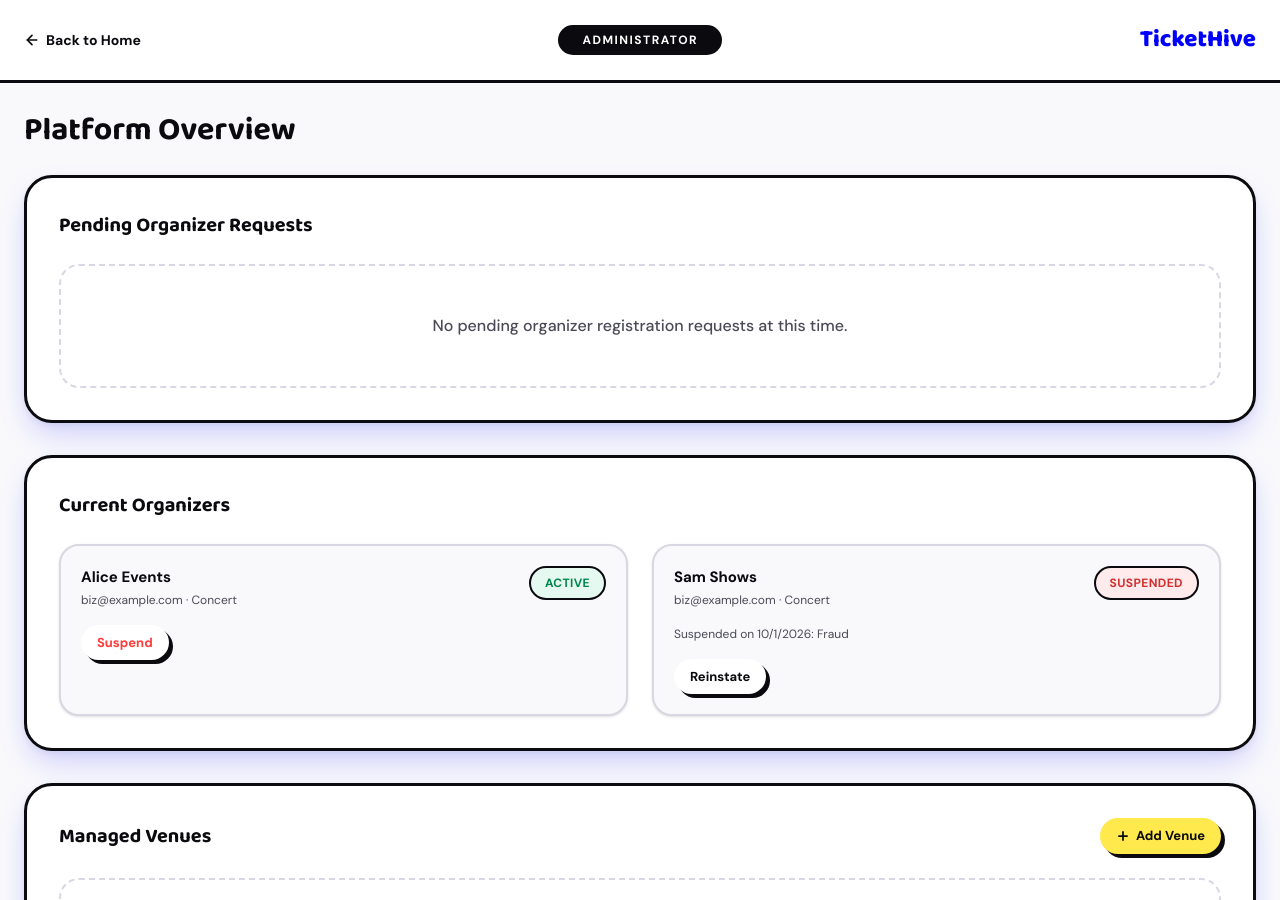
AdminDashboard organizer suspension › requires a reason before suspending, then suspends and refreshes the list
Click the button with aria-label "Suspend Alice Events": (125, 642) 81,624 -> 169,660
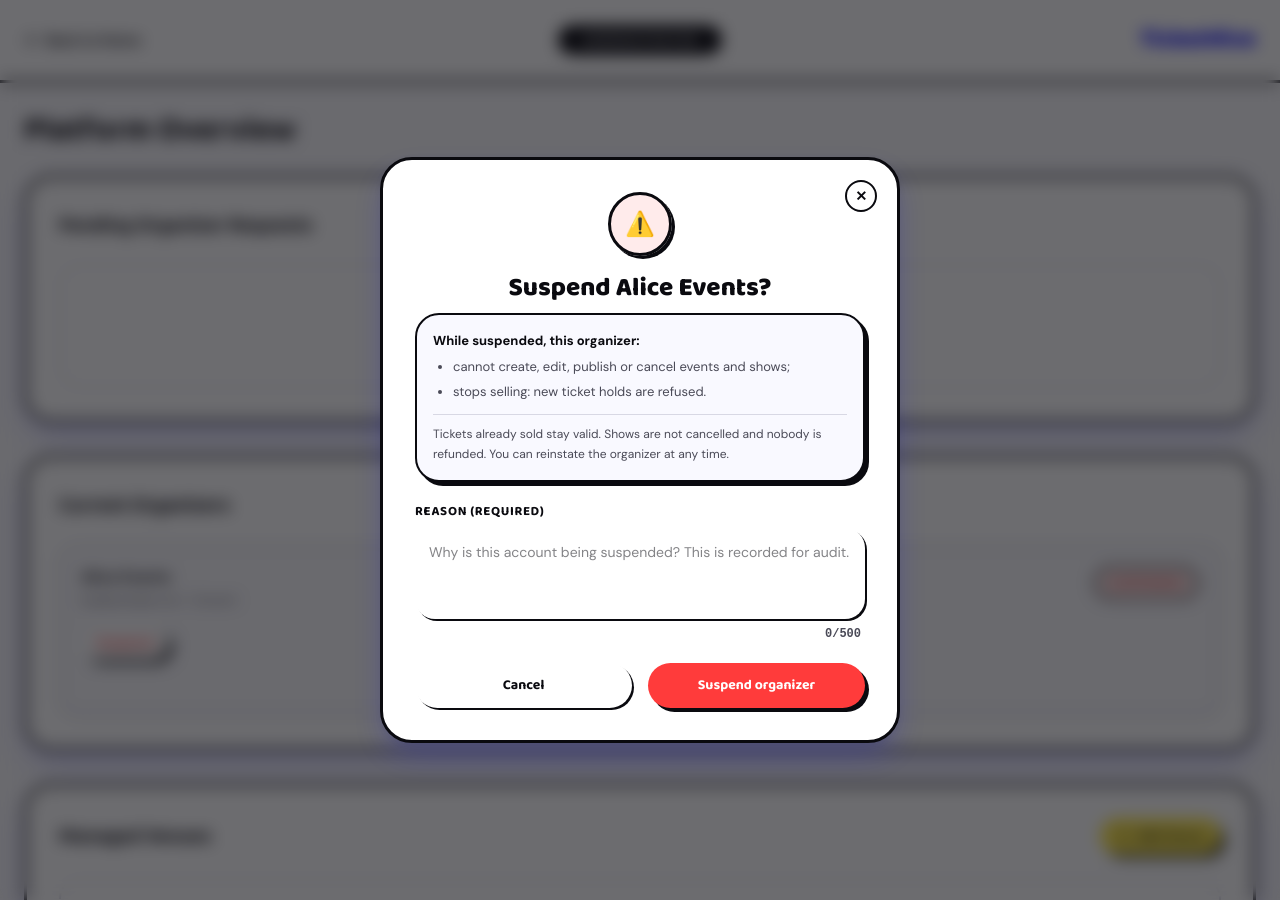
Click the button "Suspend organizer": (756, 685) 648,663 -> 865,708
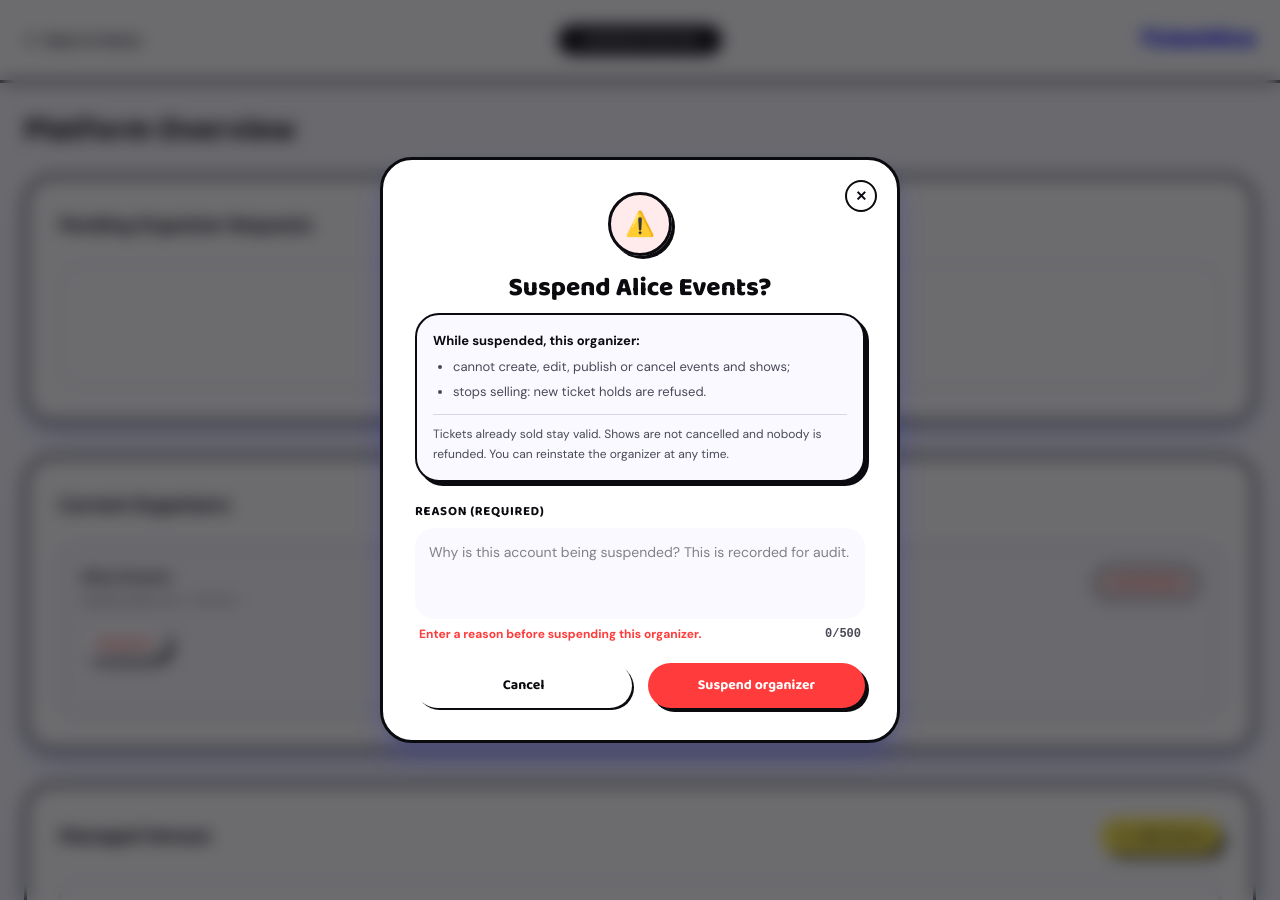
expect the text "Enter a reason before suspending this organizer." is shown: met, box 419,625 -> 702,643
In the text box labelled "Reason (required)": (640, 573) 415,528 -> 865,619, type "Fraud"
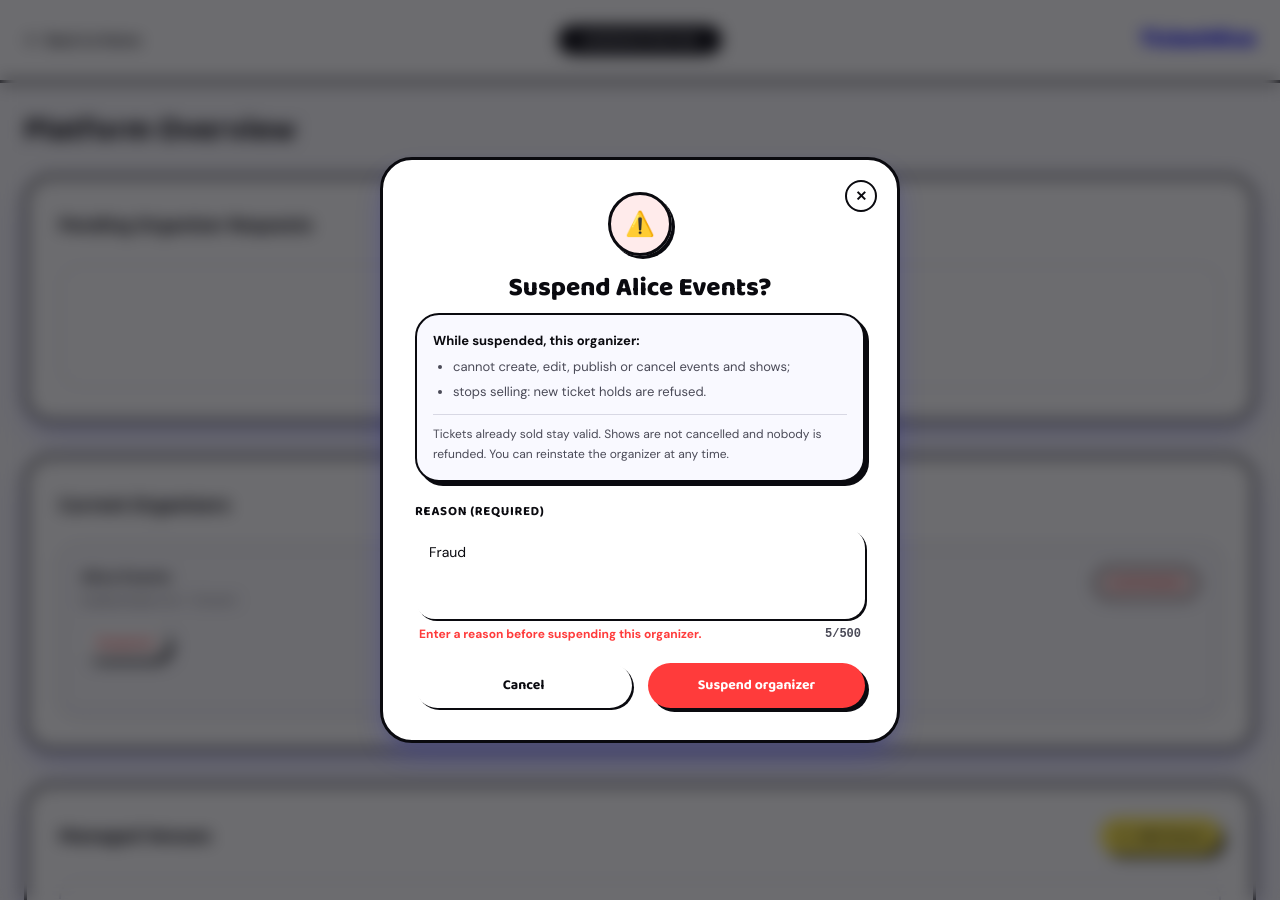
Click the button "Suspend organizer": (756, 685) 648,663 -> 865,708
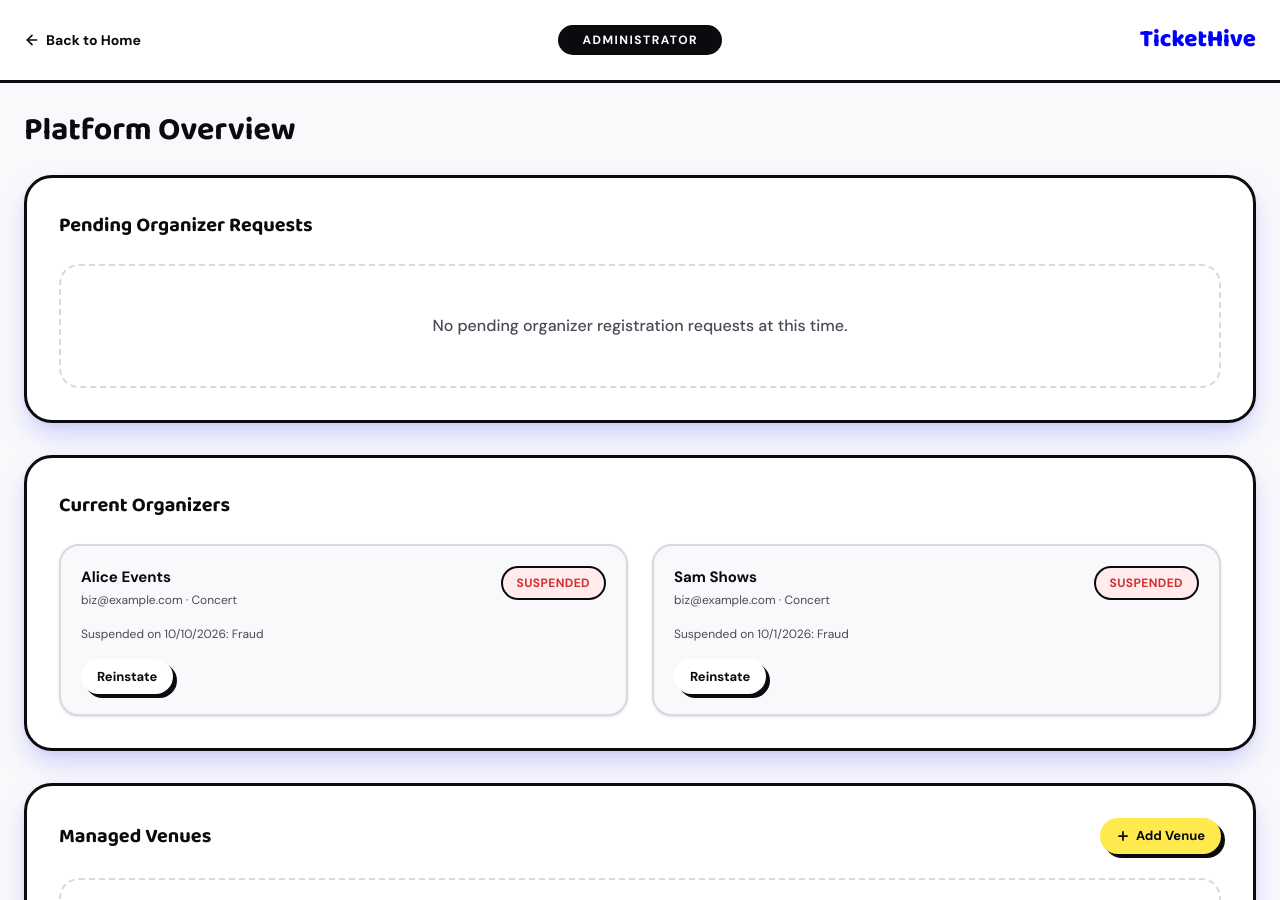
expect the button with aria-label "Reinstate Alice Events" is shown: met, box 81,658 -> 173,694
expect the dialog is gone: met
